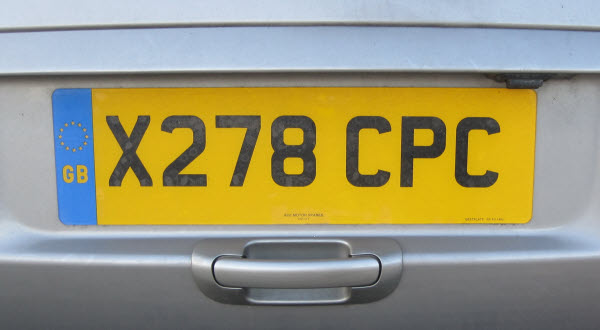license_plate: (51, 87, 538, 226)
